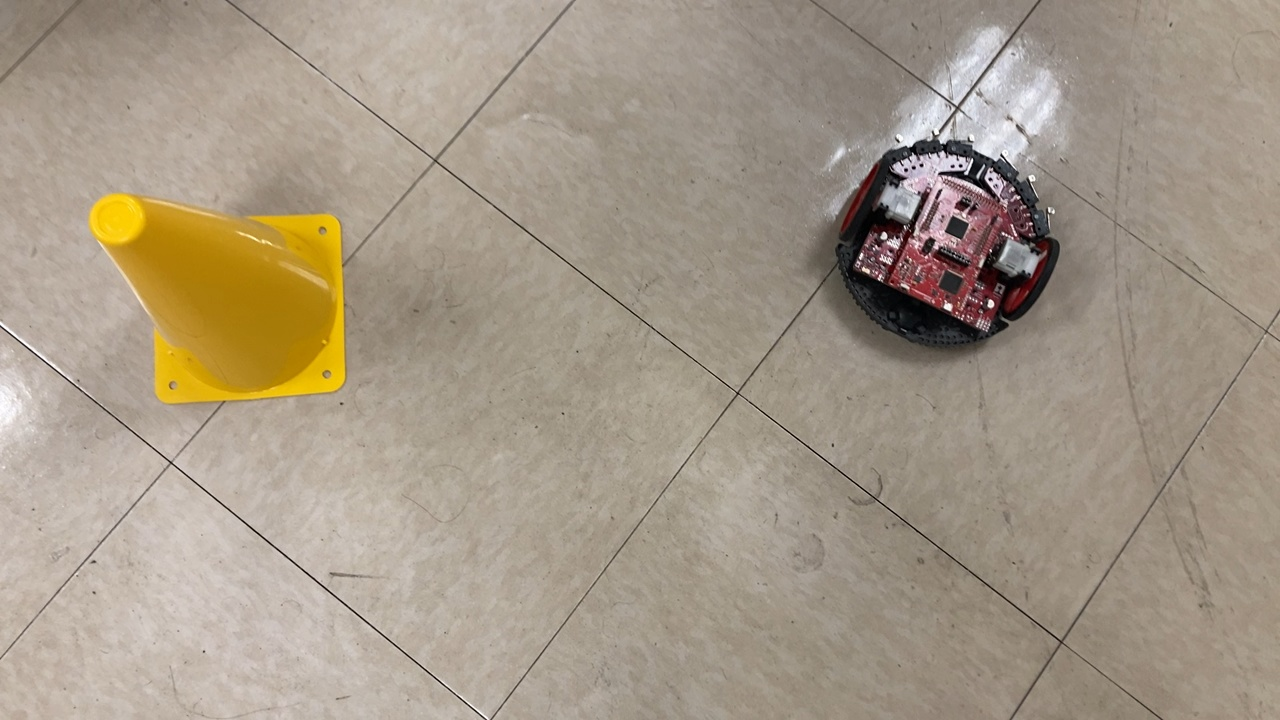robot: (823, 126, 1065, 357)
yellow_cone: (86, 190, 348, 411)
